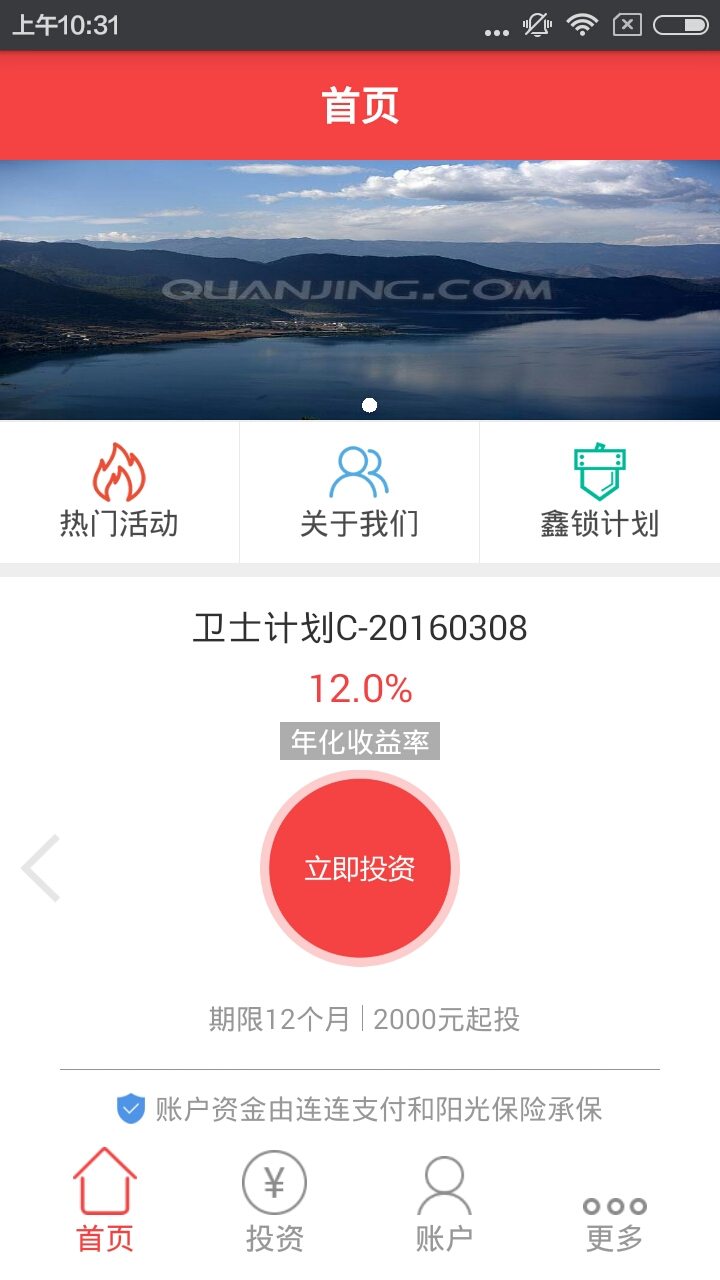imgbutton: (310, 435, 401, 514), (79, 431, 155, 510), (559, 437, 636, 510)
